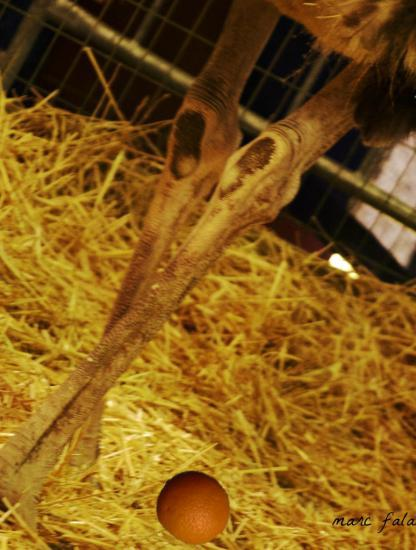Orange: (156, 470, 232, 546)
